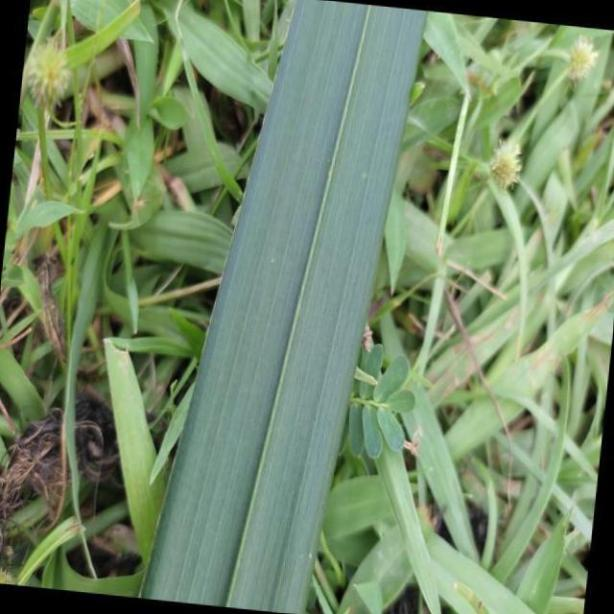Healthy: (137, 6, 427, 614)
